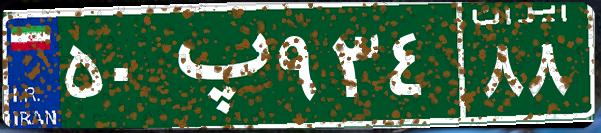0: (110, 28, 158, 105)
3: (330, 28, 385, 110)
4: (385, 28, 445, 110)
5: (57, 26, 110, 107)
8: (475, 38, 525, 113), (525, 38, 570, 115)
9: (273, 28, 330, 110)
پ: (158, 15, 273, 115)
